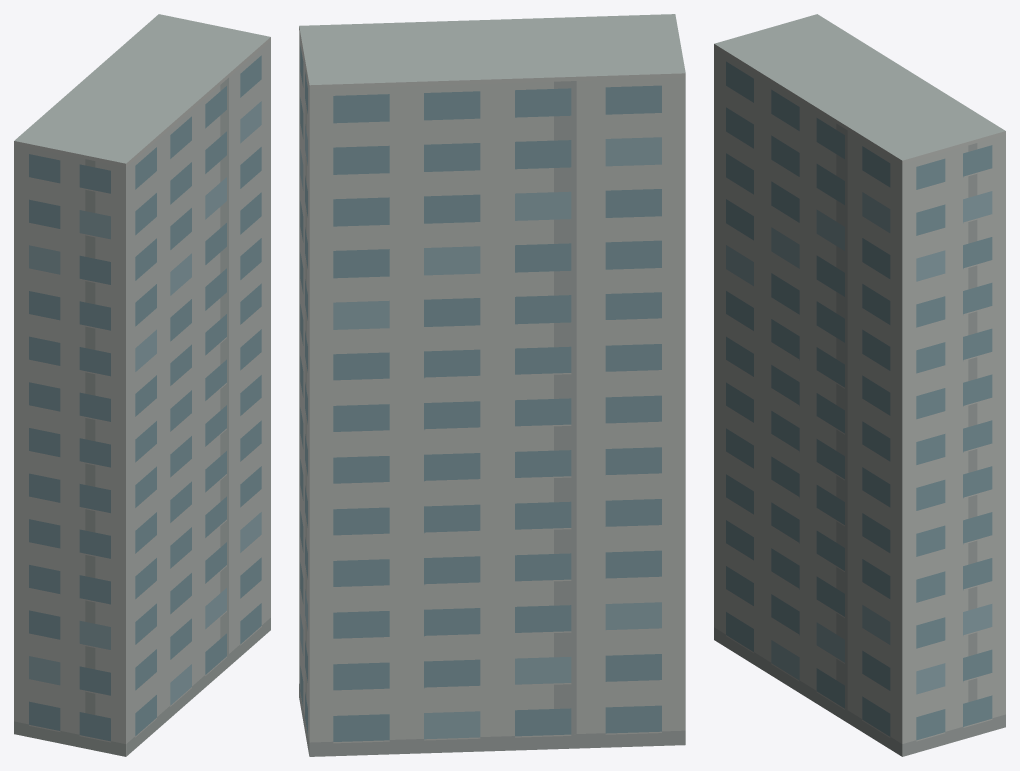
The model's file is residential-40d5959f-6d65-4641-a31c-75eeeefb04ff.glb.
The picture shows the model from 3 angles, left to right: view 1: azimuth 30°, elevation 25°; view 2: azimuth 150°, elevation 25°; view 3: azimuth 270°, elevation 25°; orthographic projection. The views are drawn at different scales.
Visible parts, largest first — view 1: residential-40d5959f-6d65-4641-a31c-75eeeefb04ff.tmp; view 2: residential-40d5959f-6d65-4641-a31c-75eeeefb04ff.tmp; view 3: residential-40d5959f-6d65-4641-a31c-75eeeefb04ff.tmp.
Boxes of the visible parts, box(x1,y1,x2,y2) form: residential-40d5959f-6d65-4641-a31c-75eeeefb04ff.tmp: box(14, 14, 270, 756); residential-40d5959f-6d65-4641-a31c-75eeeefb04ff.tmp: box(299, 14, 685, 756); residential-40d5959f-6d65-4641-a31c-75eeeefb04ff.tmp: box(714, 14, 1005, 756).
Bounding box in the file's own units: 20.59 × 39 × 17.31.
